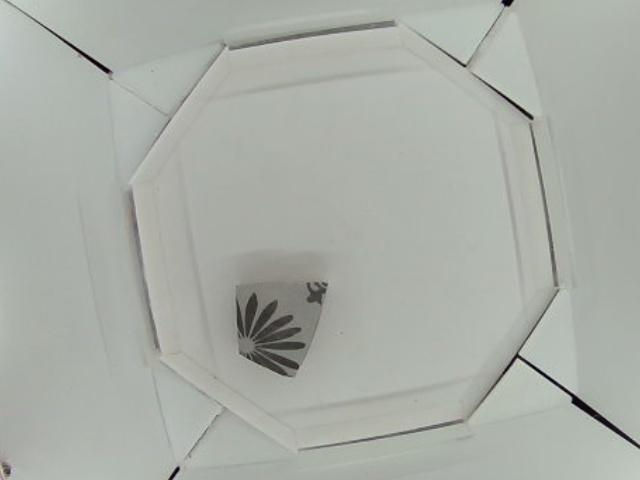China: (234, 280, 331, 378)
